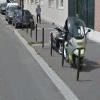Motorcycle: (46, 15, 92, 65)
